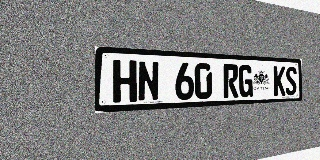0: (195, 63, 212, 99)
6: (175, 62, 194, 100)
G: (239, 65, 253, 97)
H: (113, 60, 137, 103)
K: (274, 66, 285, 96)
N: (138, 61, 159, 102)
R: (223, 64, 238, 98)
S: (286, 66, 297, 95)
